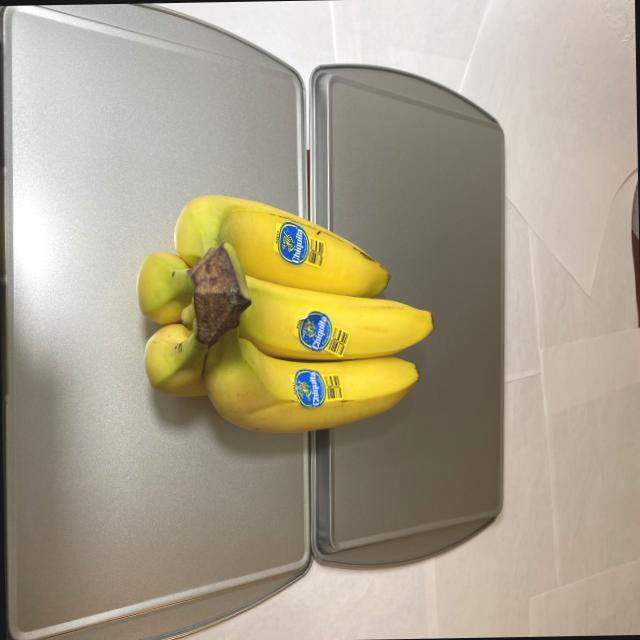banana: (134, 188, 442, 433)
